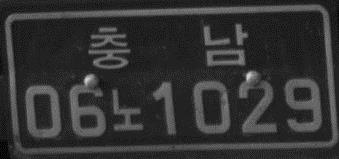0: (21, 79, 63, 142), (190, 77, 231, 136)
1: (150, 77, 183, 138)
2: (237, 73, 279, 135)
6: (66, 81, 107, 139)
9: (282, 74, 323, 136)
노: (109, 85, 145, 133)
충남_D: (86, 19, 250, 73)
